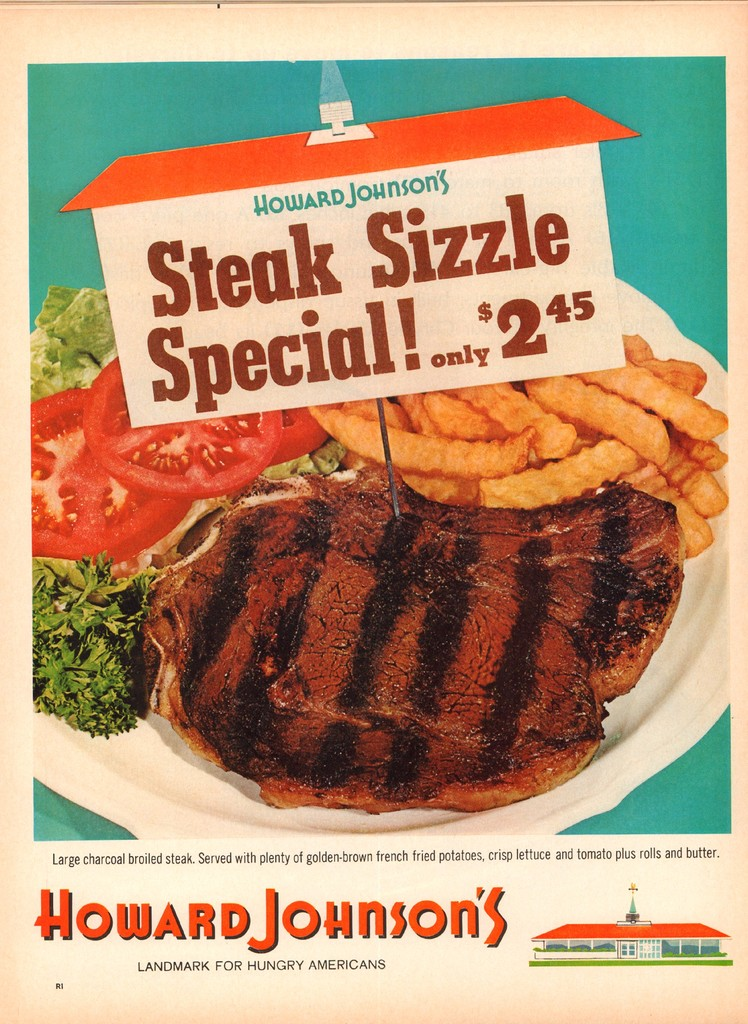French fries: (304, 321, 742, 566)
